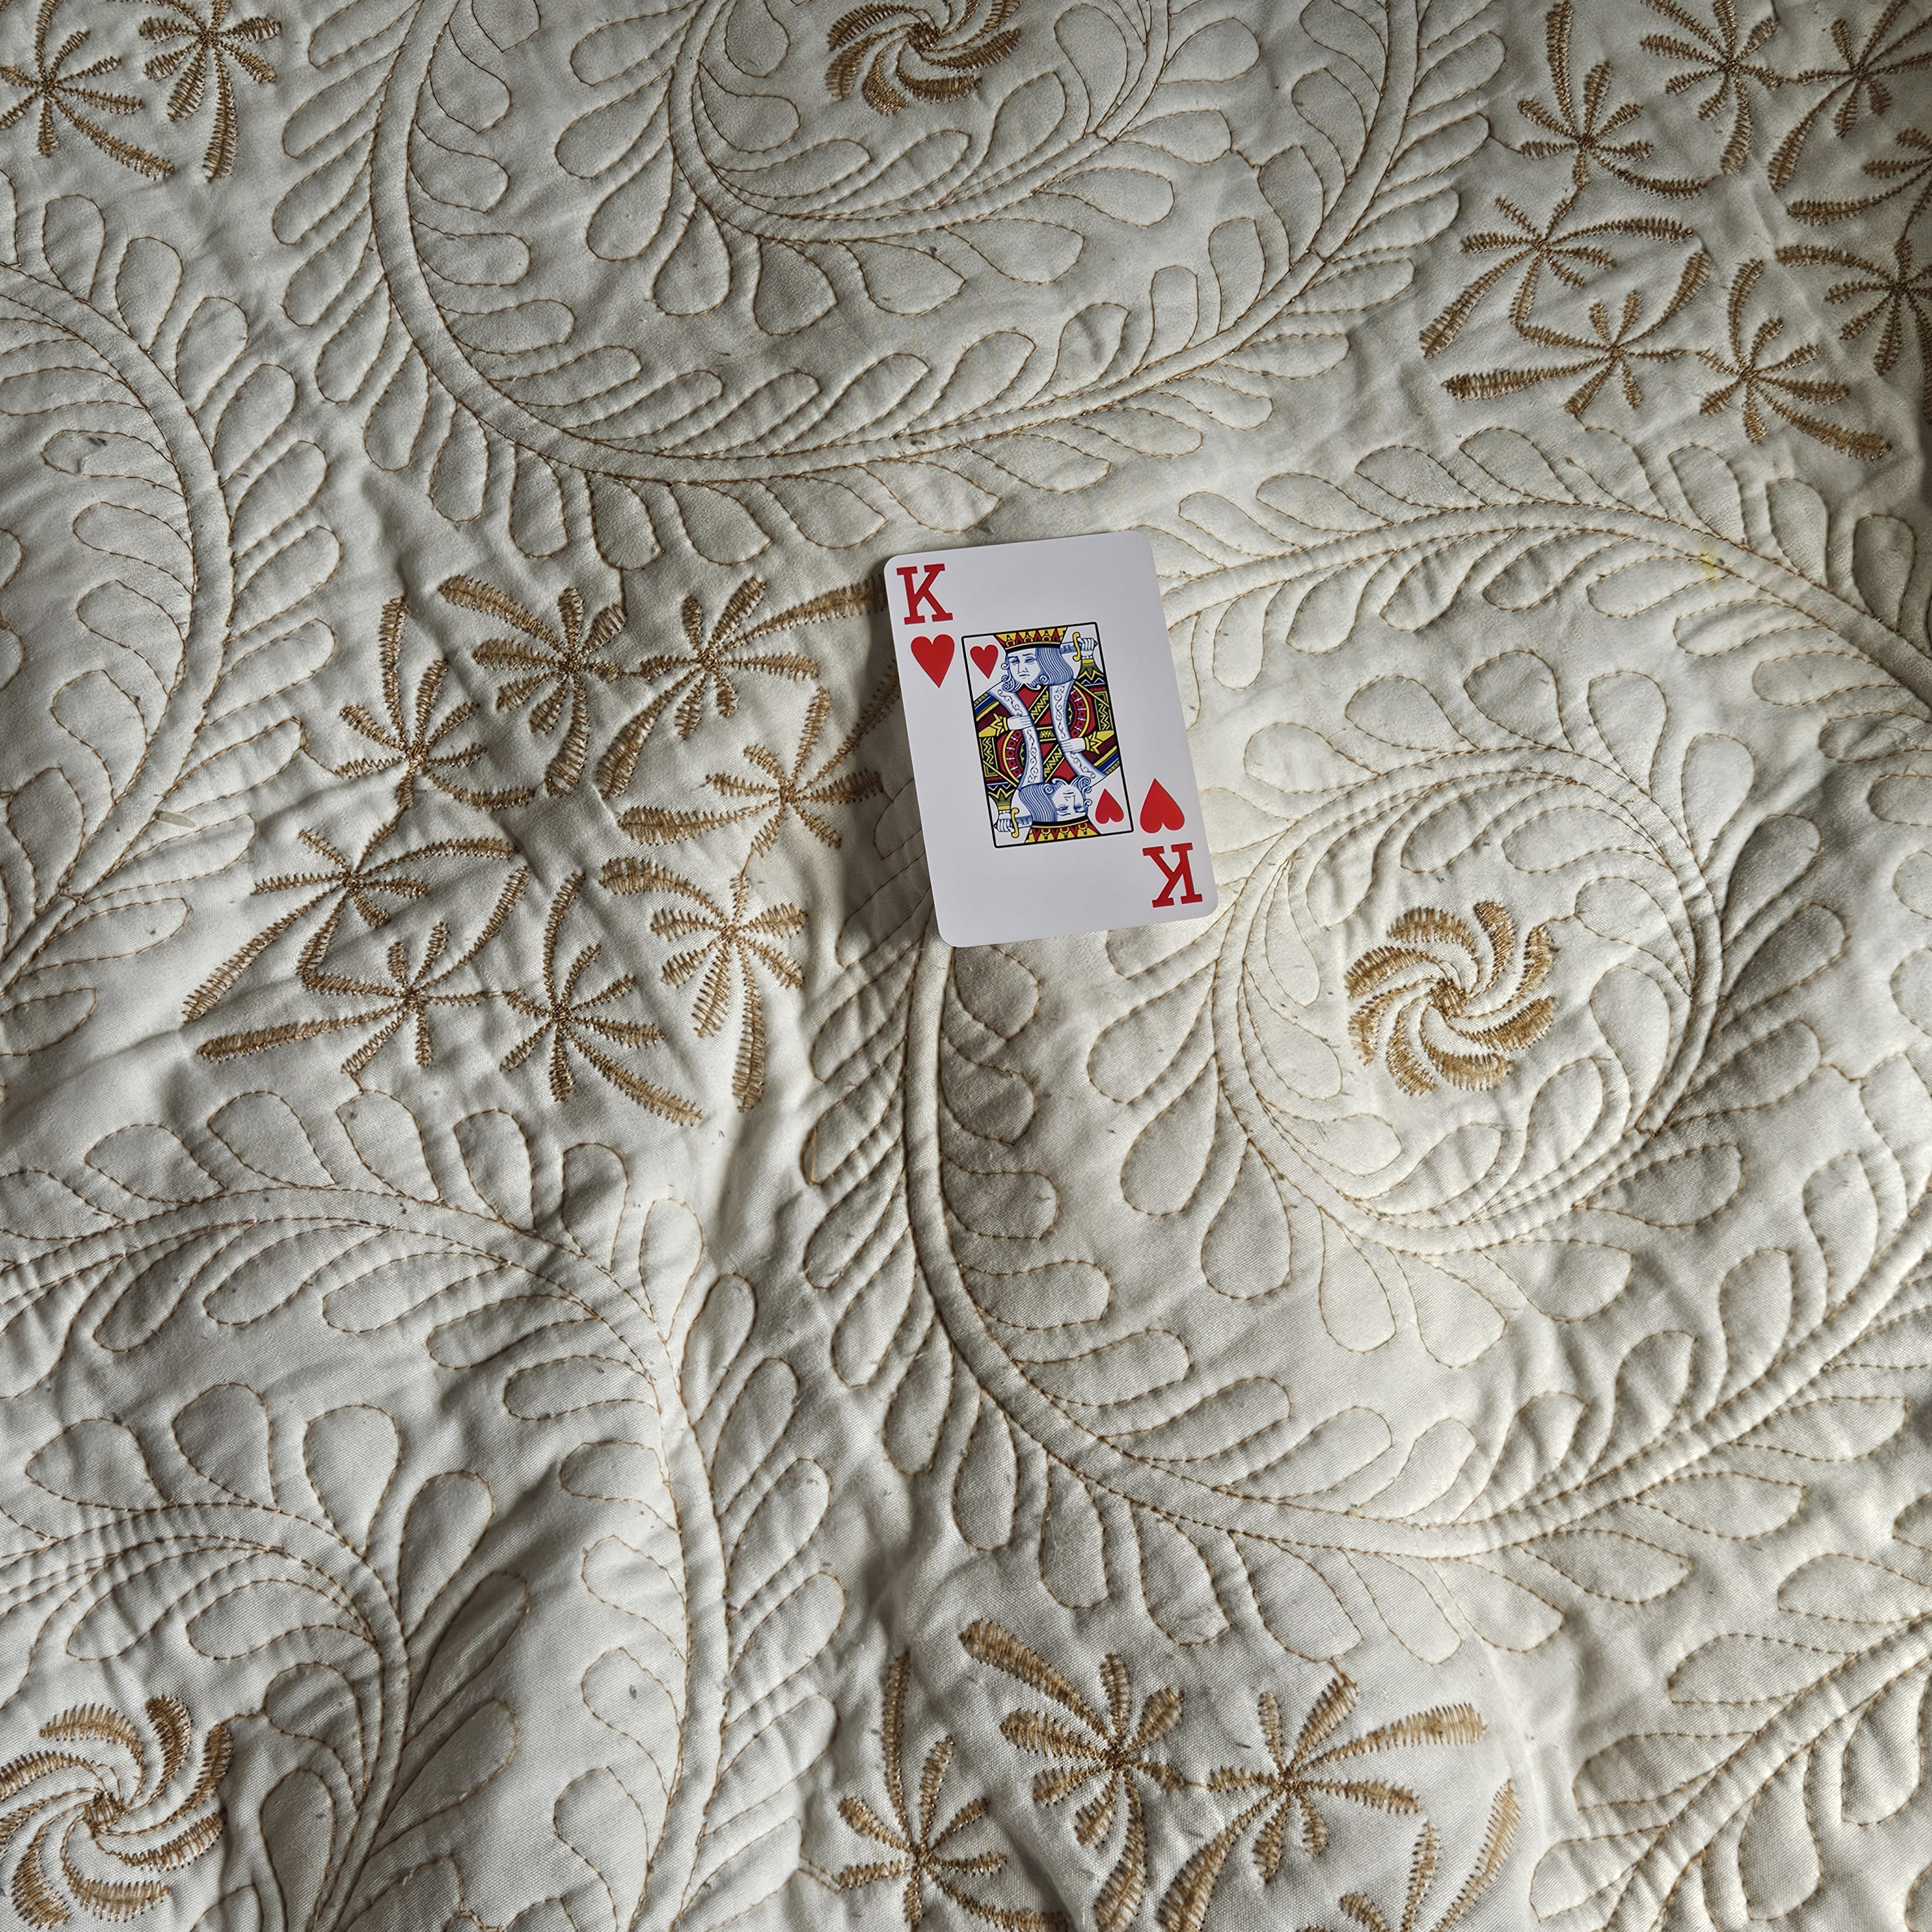KC: (883, 554, 970, 694), (1127, 771, 1208, 913)
